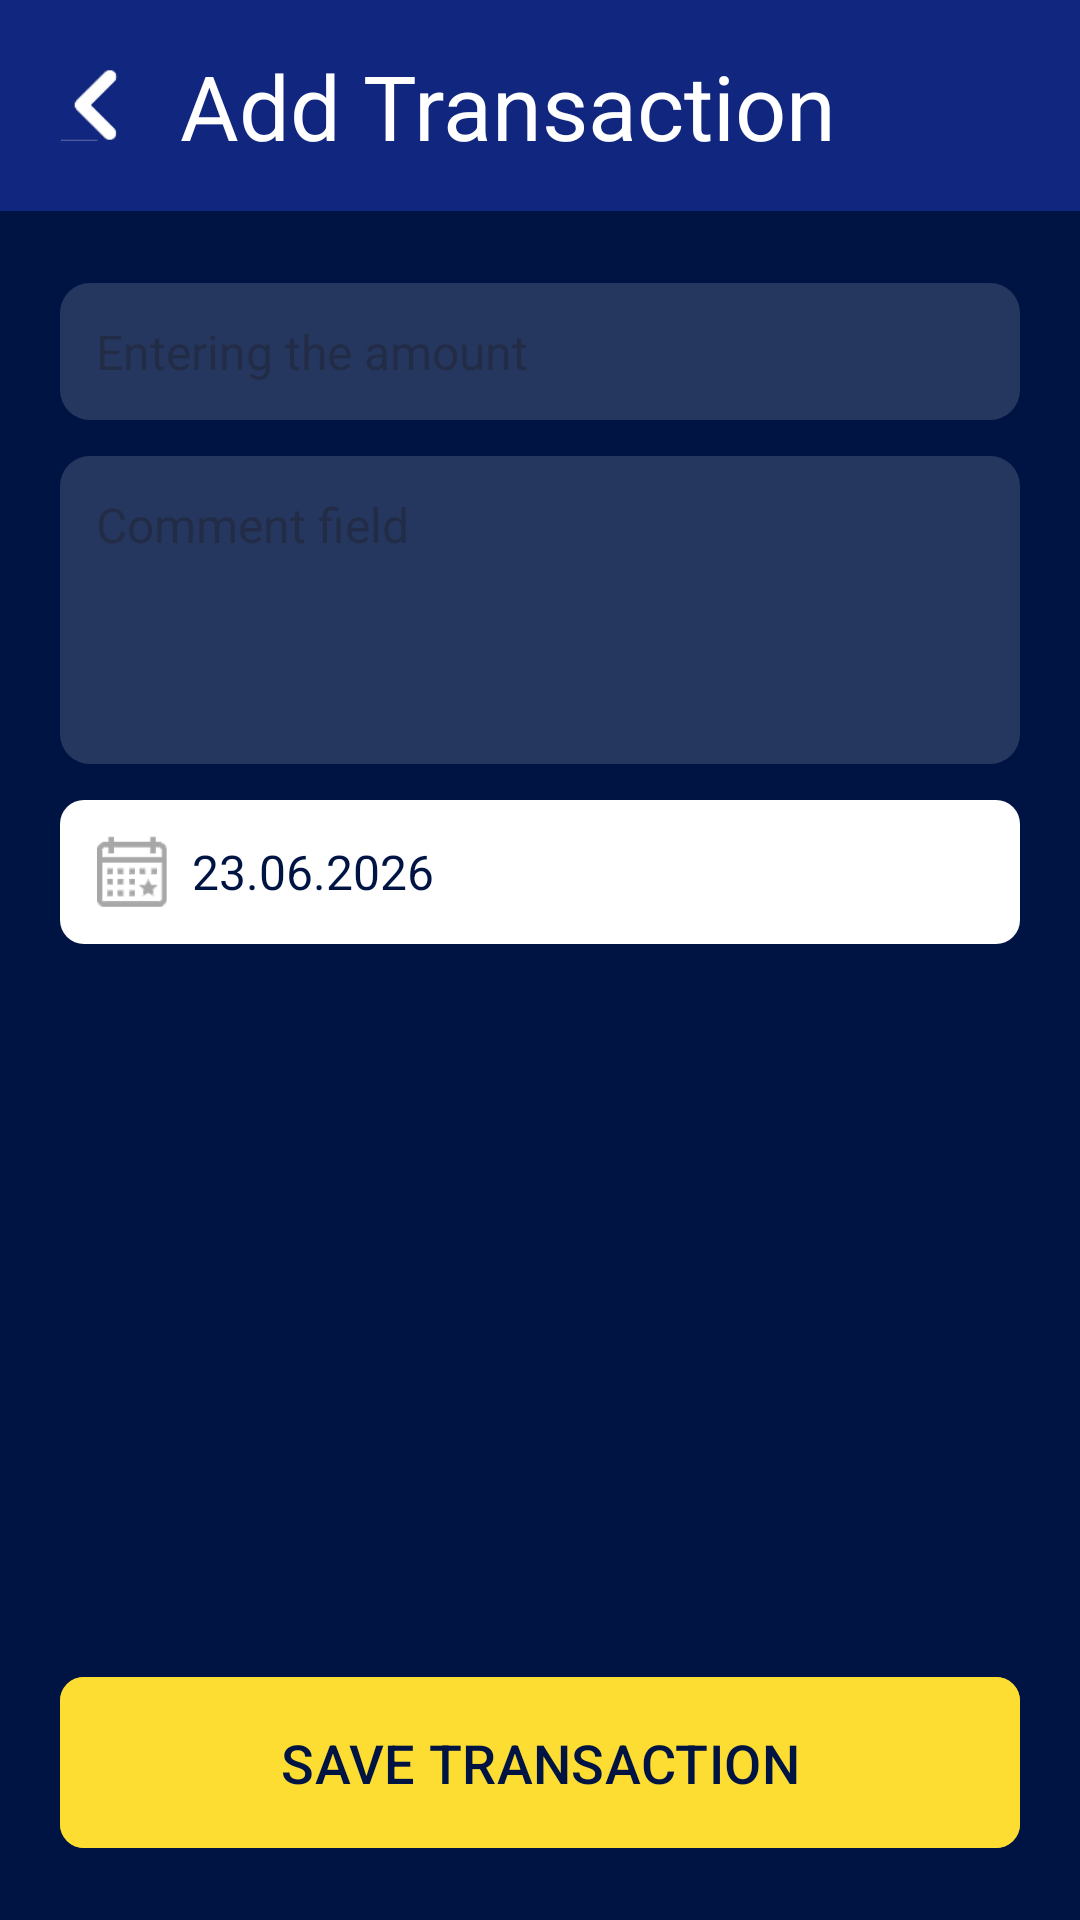

Icon click points for this 1080w x 1920h phone screenshot, format [x,y]:
back: [89,105]
calendar: [132,872]
